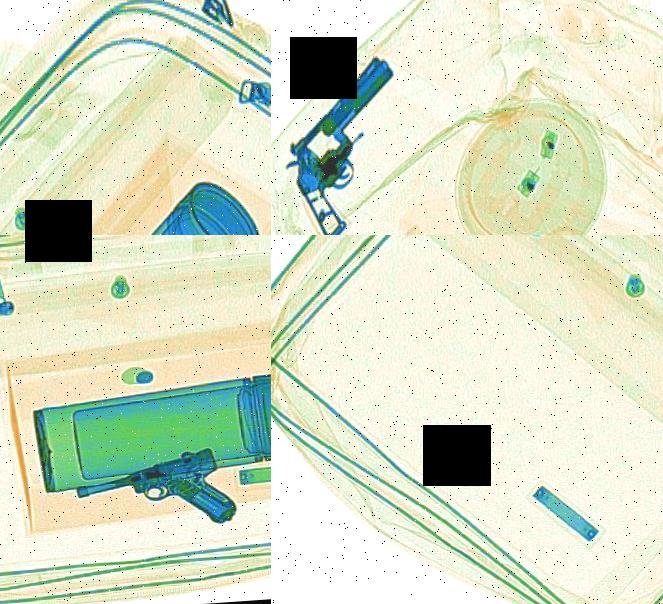Gun: (271, 48, 467, 235), (70, 440, 251, 558)
